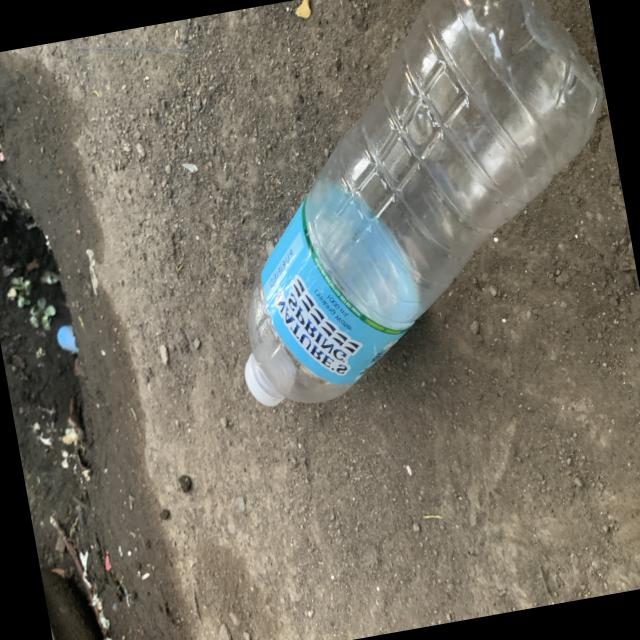Bottle: (244, 0, 601, 406)
